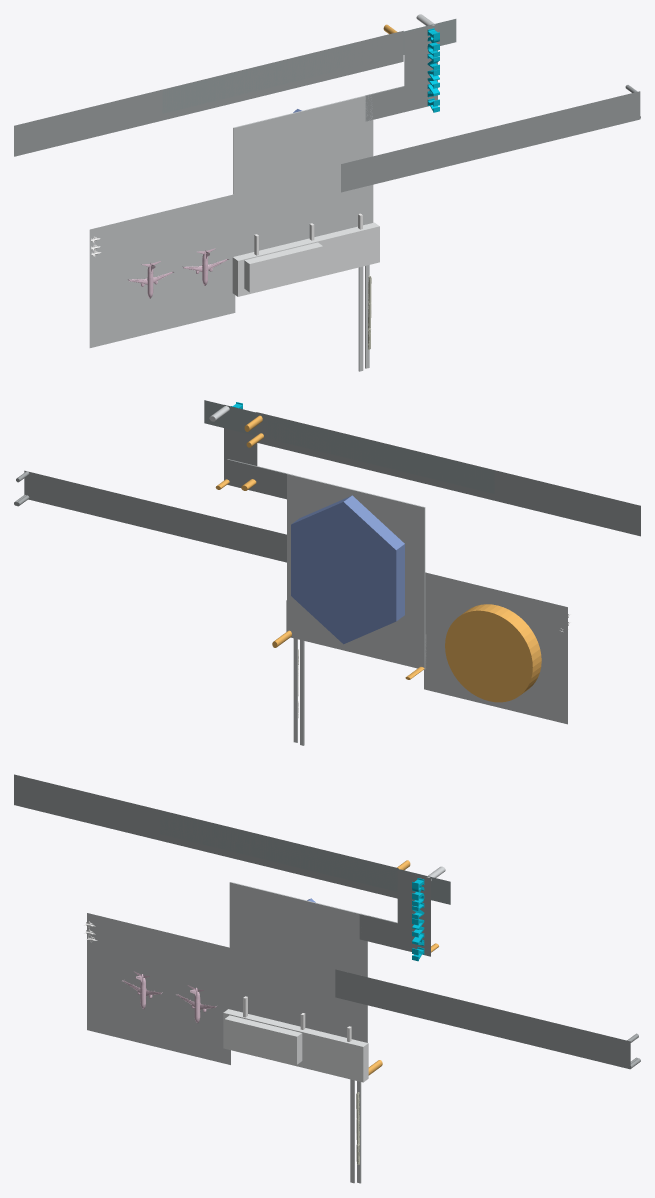
The picture shows the model from 3 angles, top to bottom: view 1: azimuth 30°, elevation 25°; view 2: azimuth 150°, elevation 25°; view 3: azimuth 330°, elevation 25°; orthographic projection.
Parts seen in each view (by area): view 1: Node8, Node22, Node10, Node11, Node2, Node17, Node18, Node4, Node3, Node24, Node31; view 2: Node1, Node8, Node22, Node10, Node11, Node23, Node2, Node3, Node4, Node31, Node30; view 3: Node8, Node22, Node10, Node11, Node2, Node17, Node18, Node4, Node3, Node24.
Boxes of the visible parts, box(x1,y1,x2,y2) form: Node8: box(233, 14, 435, 256); Node22: box(89, 194, 235, 347); Node10: box(14, 31, 403, 156); Node11: box(341, 91, 640, 192); Node2: box(162, 19, 456, 113); Node17: box(232, 222, 379, 296); Node18: box(244, 242, 322, 292); Node4: box(404, 24, 437, 112); Node3: box(365, 86, 404, 121); Node24: box(427, 28, 439, 112); Node31: box(358, 266, 363, 371); Node1: box(291, 495, 404, 644); Node8: box(209, 406, 425, 669); Node22: box(424, 572, 567, 724); Node10: box(256, 412, 640, 536); Node11: box(24, 470, 286, 562); Node23: box(445, 604, 541, 702); Node2: box(204, 400, 494, 493); Node3: box(227, 459, 294, 499); Node4: box(224, 404, 257, 480); Node31: box(300, 640, 304, 745); Node30: box(293, 638, 297, 742); Node8: box(229, 866, 445, 1042); Node22: box(87, 913, 230, 1064); Node10: box(14, 774, 398, 898); Node11: box(335, 969, 630, 1069); Node2: box(160, 811, 450, 904); Node17: box(223, 1009, 368, 1082); Node18: box(224, 1015, 302, 1064); Node4: box(397, 870, 430, 956); Node3: box(359, 913, 397, 948); Node24: box(412, 878, 424, 961).
Bounding box in the file's own units: 486 × 243 × 35.
